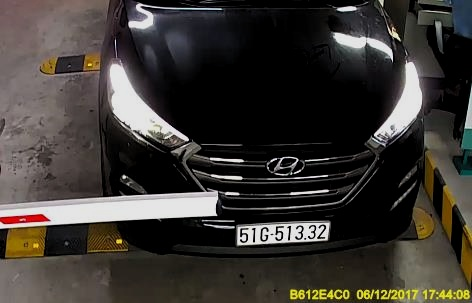plate: (235, 220, 333, 250)
